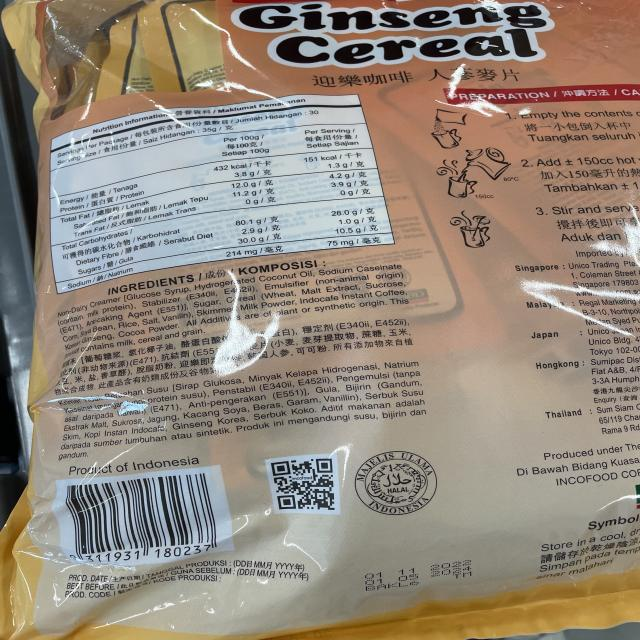object_name: (25, 0, 640, 621)
